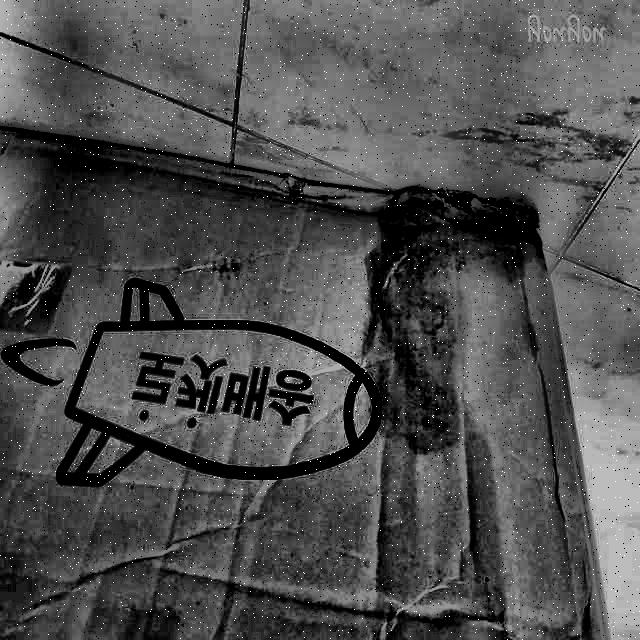box: (0, 121, 616, 640)
hole: (439, 186, 537, 238)
wet: (371, 195, 541, 437)
